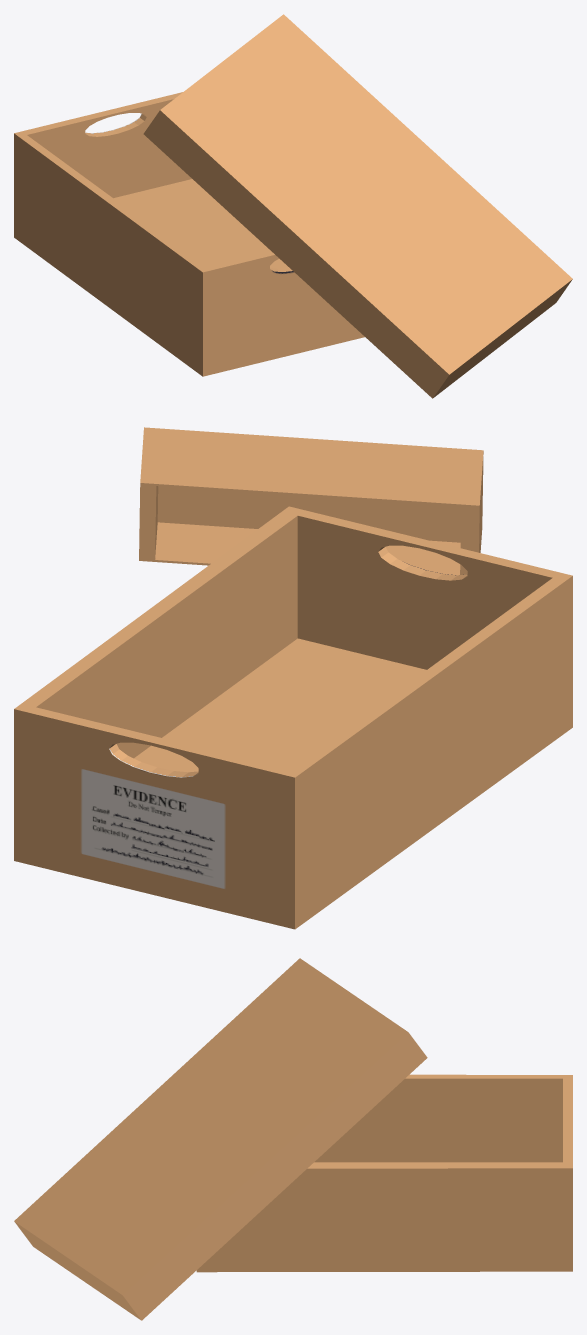
The model's file is EvidenceboxOpened.fbx.
3 views of the same model, one above another, from view 1: azimuth 30°, elevation 25°; view 2: azimuth 150°, elevation 25°; view 3: azimuth 270°, elevation 25° (orthographic). The views are drawn at different scales.
Visible parts, largest first — view 1: Boxtop, polySurface1; view 2: polySurface1, Boxtop; view 3: Boxtop, polySurface1.
Part boxes in pixels (<box>): Boxtop: <box>143,14,572,398</box>; polySurface1: <box>14,92,364,376</box>; polySurface1: <box>14,506,572,929</box>; Boxtop: <box>139,427,483,575</box>; Boxtop: <box>14,958,427,1320</box>; polySurface1: <box>196,1074,572,1272</box>.
Bounding box in the file's own units: 3.47 × 2.38 × 5.1.
1 material, 1 textured.
